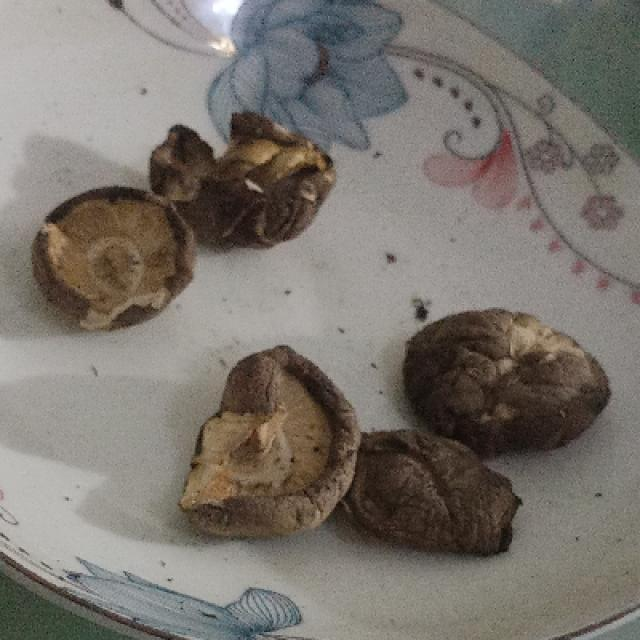Lentinus edodes: (185, 344, 358, 538), (399, 309, 614, 457), (337, 425, 522, 566), (148, 115, 337, 245), (29, 187, 195, 331)
